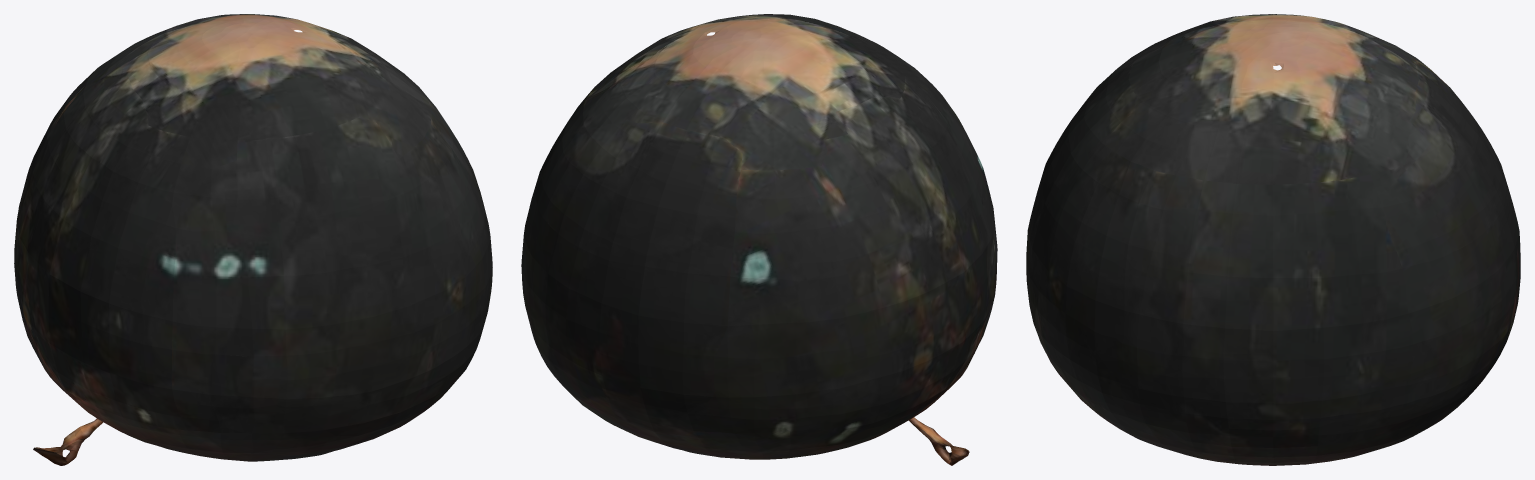
3 renders of one model, left to right at view 1: azimuth 30°, elevation 25°; view 2: azimuth 150°, elevation 25°; view 3: azimuth 270°, elevation 25°, orthographic.
Parts seen in each view (by area): view 1: world; view 2: world; view 3: world.
Part boxes in pixels (<box>): world: <box>14,14,492,465</box>; world: <box>521,14,997,465</box>; world: <box>1026,14,1520,465</box>.
Size of the model in its own units: 0.9857 by 0.8917 by 0.9997.
Materials: 1 (1 with a texture image).
